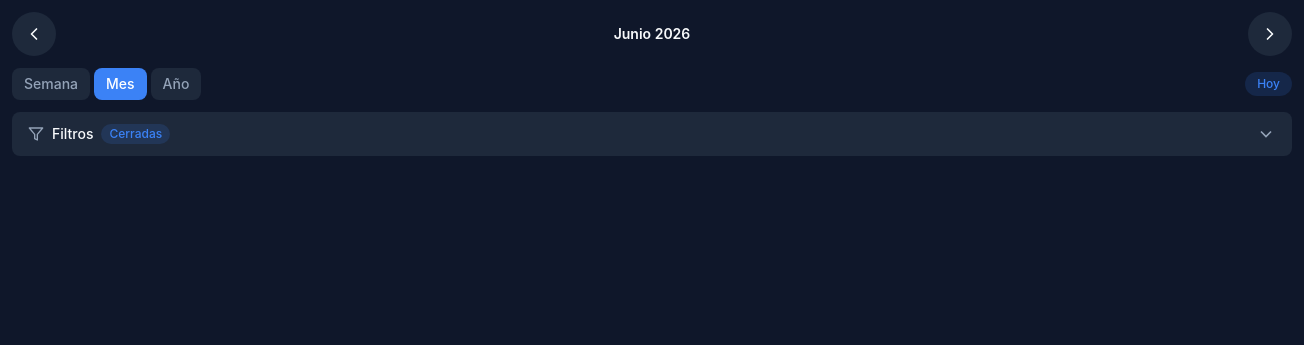
HistorialFiltros.svelte › renderizado por defecto (modo periodo) AC-03, AC-24 › al abrir el panel muestra los tres botones de estado (Todas/Abiertas/Cerradas) (AC-14)
The width and height of the screenshot is (1304, 345).
Click the button "Filtros Cerradas" at [73, 134], box [12,112,1292,156]
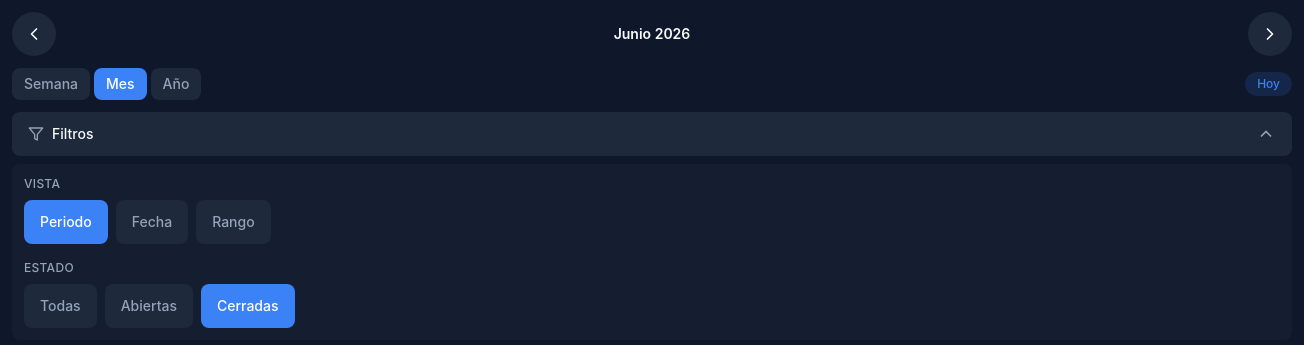
Check: the button "Cerradas" is shown, box [201,284,294,328]
Check: the button "Todas" is shown, box [24,284,97,328]
Check: the button "Abiertas" is shown, box [105,284,193,328]
